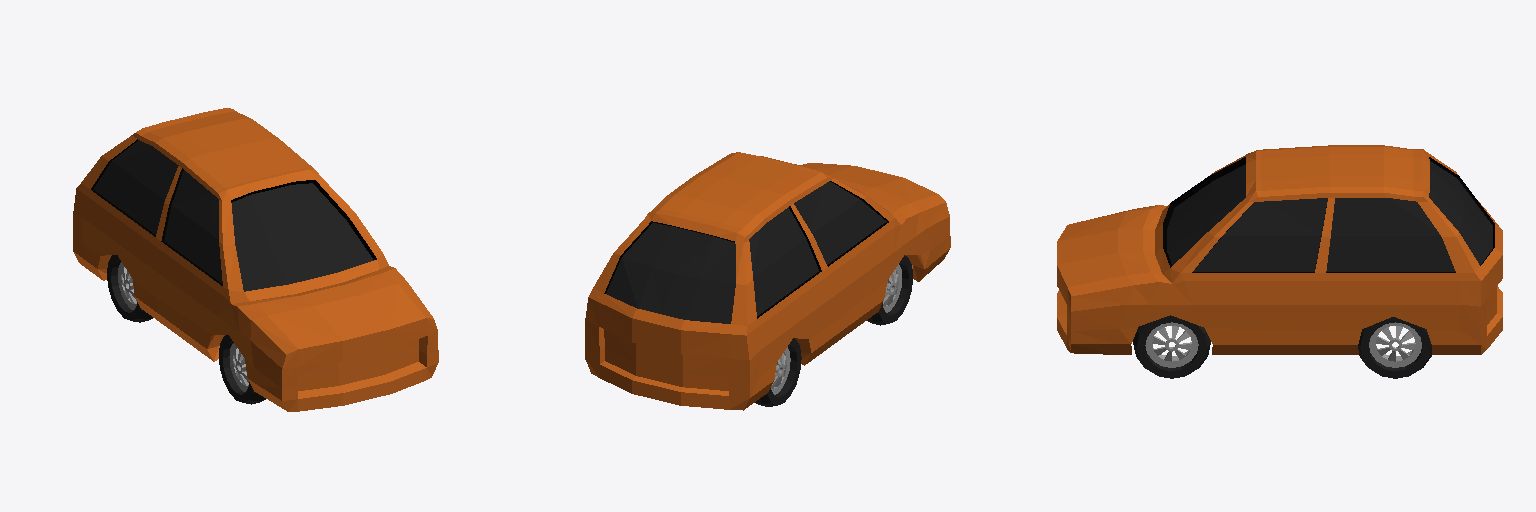
The model's file is lowpolycar.obj.
3 renders of one model, left to right at view 1: azimuth 30°, elevation 25°; view 2: azimuth 150°, elevation 25°; view 3: azimuth 270°, elevation 25°, orthographic.
Parts seen in each view (by area): view 1: Car_Cube, Wheel_Front_Right_Cylinder.001, Wheel_Rear_Right_Cylinder.002; view 2: Car_Cube, Wheel_Front_Right_Cylinder.001, Wheel_Rear_Right_Cylinder.002; view 3: Car_Cube, Wheel_Front_Left_Cylinder, Wheel_Rear_Left_Cylinder.003.
Boxes of the visible parts, x1=… form: Car_Cube: x1=73, y1=108, x2=438, y2=411; Wheel_Front_Right_Cylinder.001: x1=219, y1=335, x2=265, y2=404; Wheel_Rear_Right_Cylinder.002: x1=107, y1=255, x2=152, y2=322; Car_Cube: x1=585, y1=152, x2=950, y2=410; Wheel_Front_Right_Cylinder.001: x1=867, y1=255, x2=912, y2=325; Wheel_Rear_Right_Cylinder.002: x1=755, y1=338, x2=801, y2=406; Car_Cube: x1=1057, y1=145, x2=1502, y2=354; Wheel_Front_Left_Cylinder: x1=1133, y1=315, x2=1210, y2=378; Wheel_Rear_Left_Cylinder.003: x1=1358, y1=317, x2=1431, y2=378.
Size of the model in its own units: 2.28 by 2.39 by 5.35.